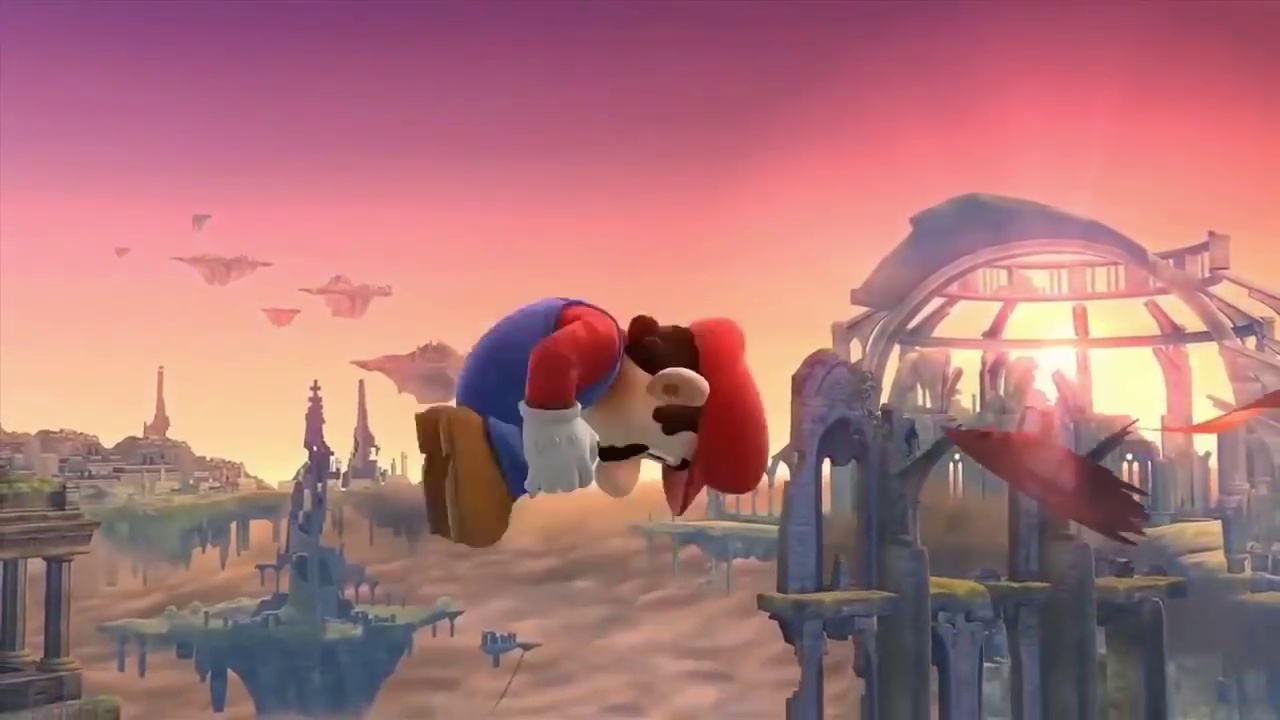Mario: (415, 297, 767, 545)
